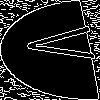V: (24, 25, 100, 63)
